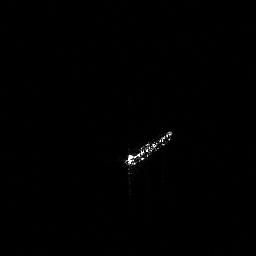ship: (118, 126, 178, 174)
